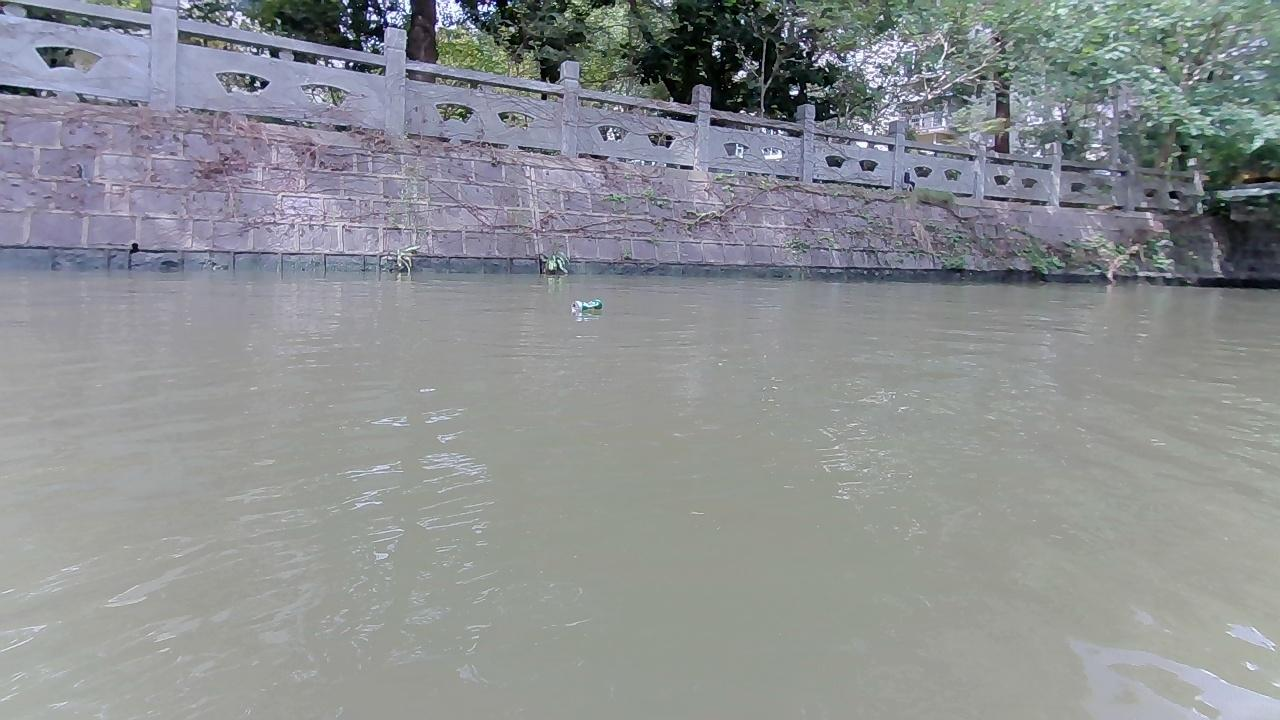bottle: (570, 298, 601, 310)
